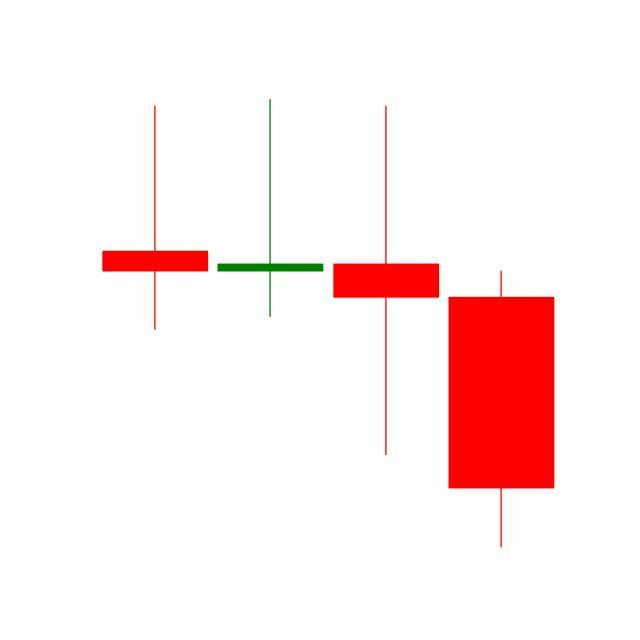Spinning Top: (329, 103, 445, 460)
